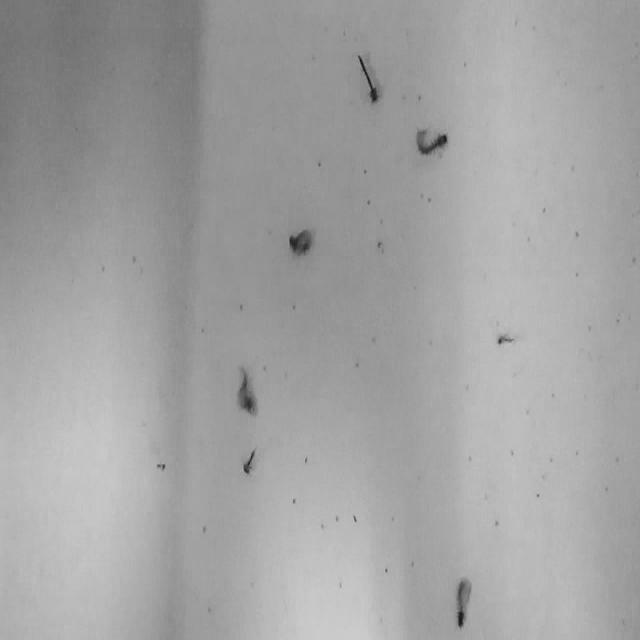larvas: (236, 364, 256, 416), (357, 54, 379, 100), (416, 127, 448, 155), (456, 576, 472, 628), (289, 228, 313, 254), (242, 444, 256, 474), (497, 332, 515, 345)
